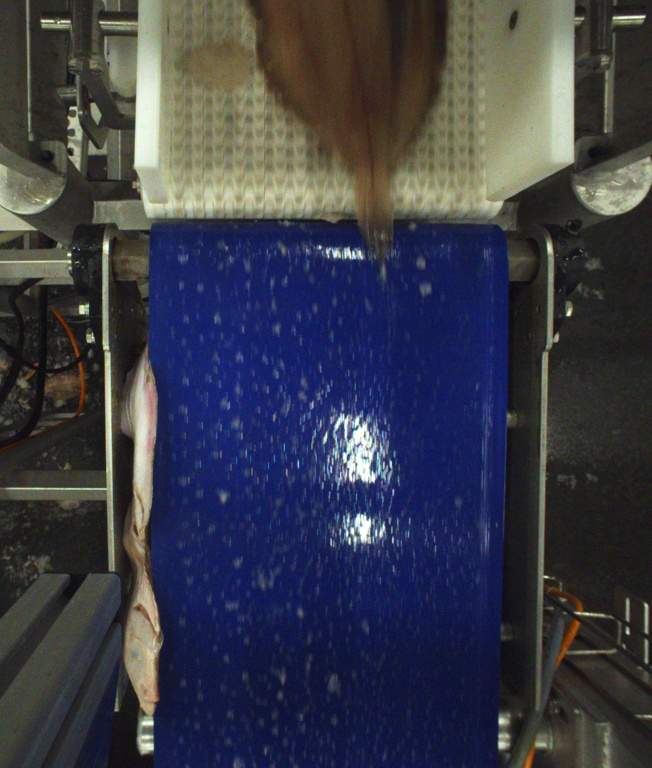WIT: (243, 0, 448, 265)
